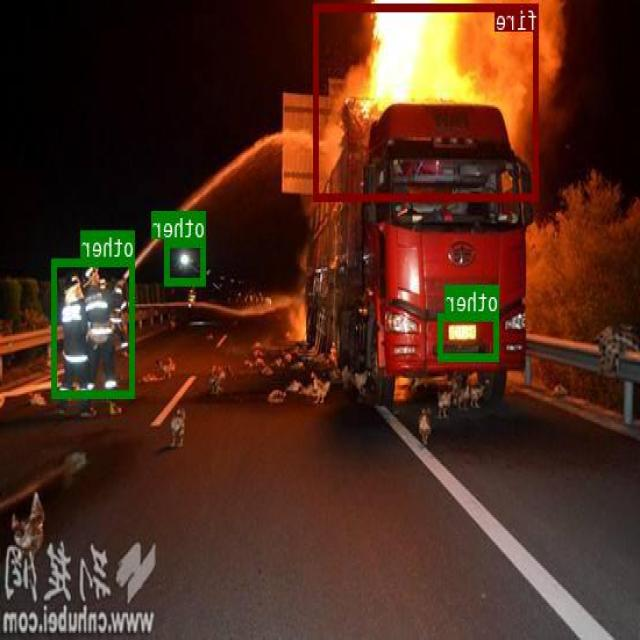fire: (315, 2, 539, 199)
other: (52, 258, 136, 396), (439, 312, 500, 359), (166, 238, 207, 284)
